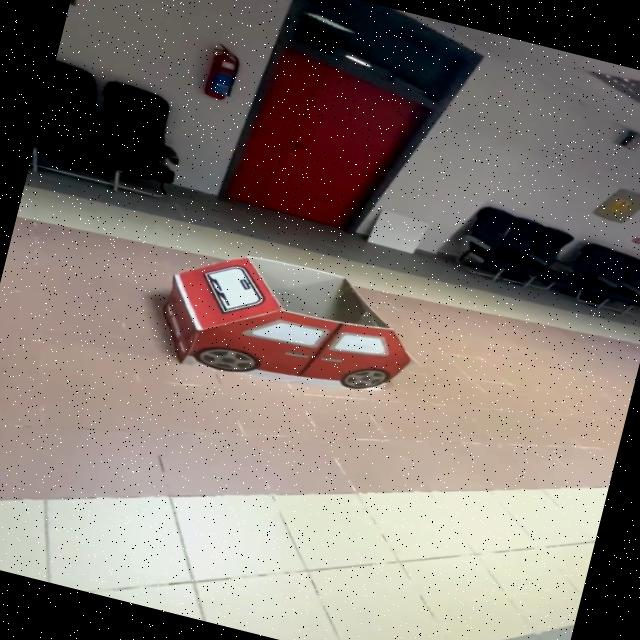red_car: (112, 204, 460, 450)
